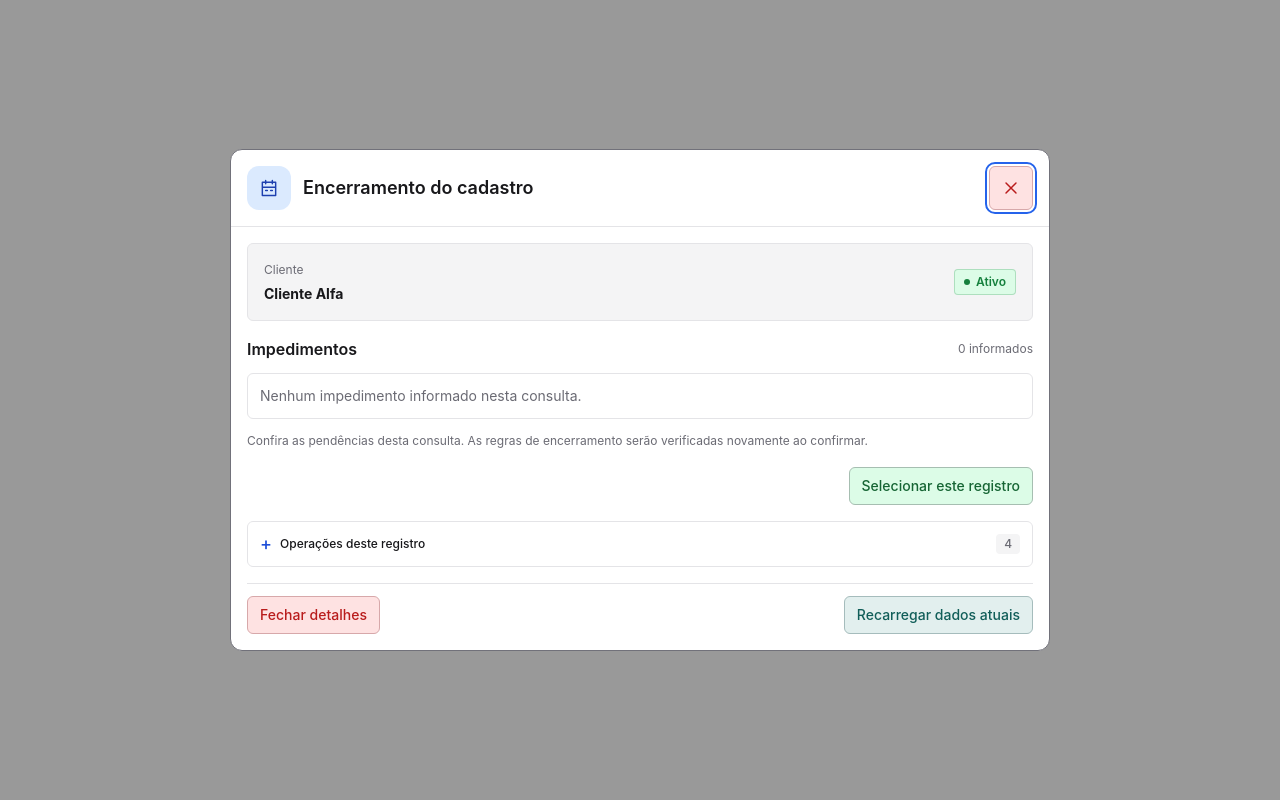
Test case: Organização do diálogo por registro › identifica a ação e o cadastro, retira a faixa vazia e separa a navegação
Expected: the heading "Encerramento do cadastro" is shown, [303, 176, 534, 200]
Click the heading "Operações deste registro 4". click: (353, 544)
box: [280, 534, 1020, 554]
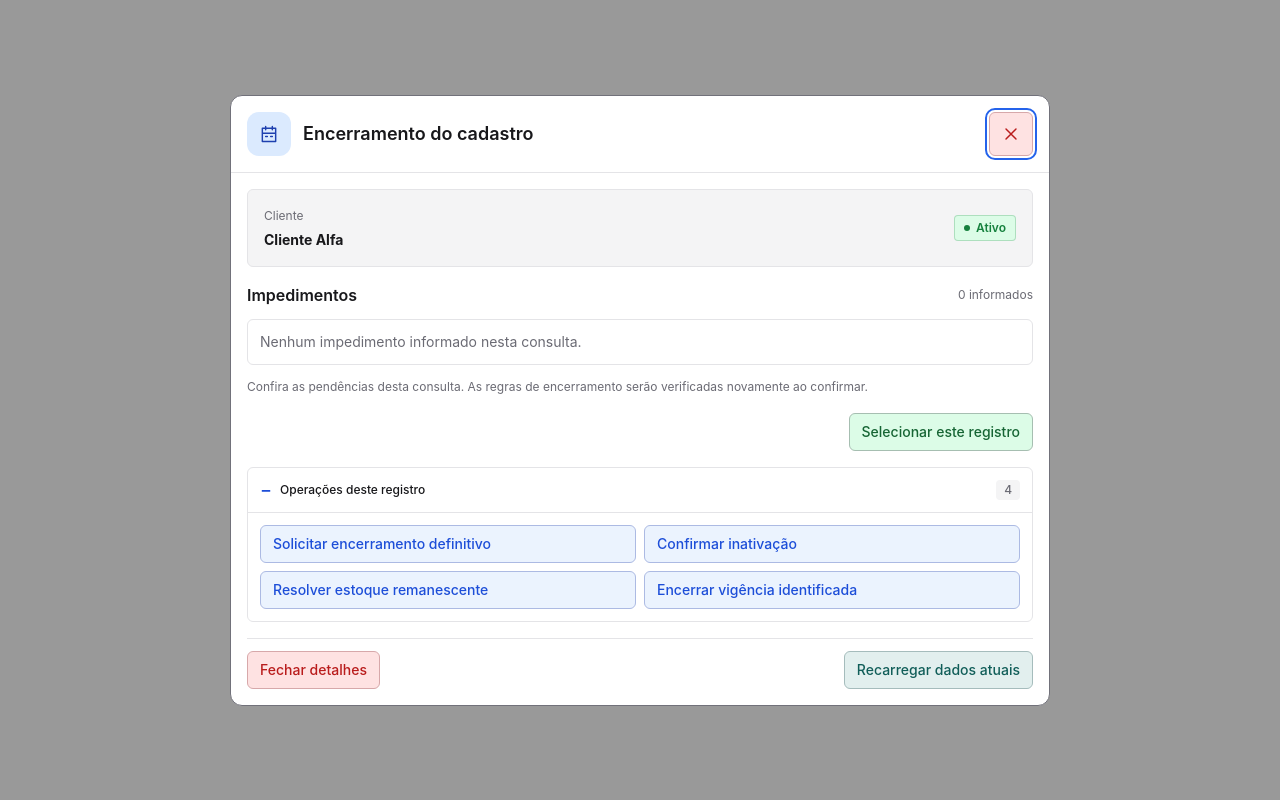
Expected: the button "Solicitar encerramento definitivo" is shown
Click the button "Solicitar encerramento definitivo". click: (448, 544)
box: [260, 524, 636, 562]
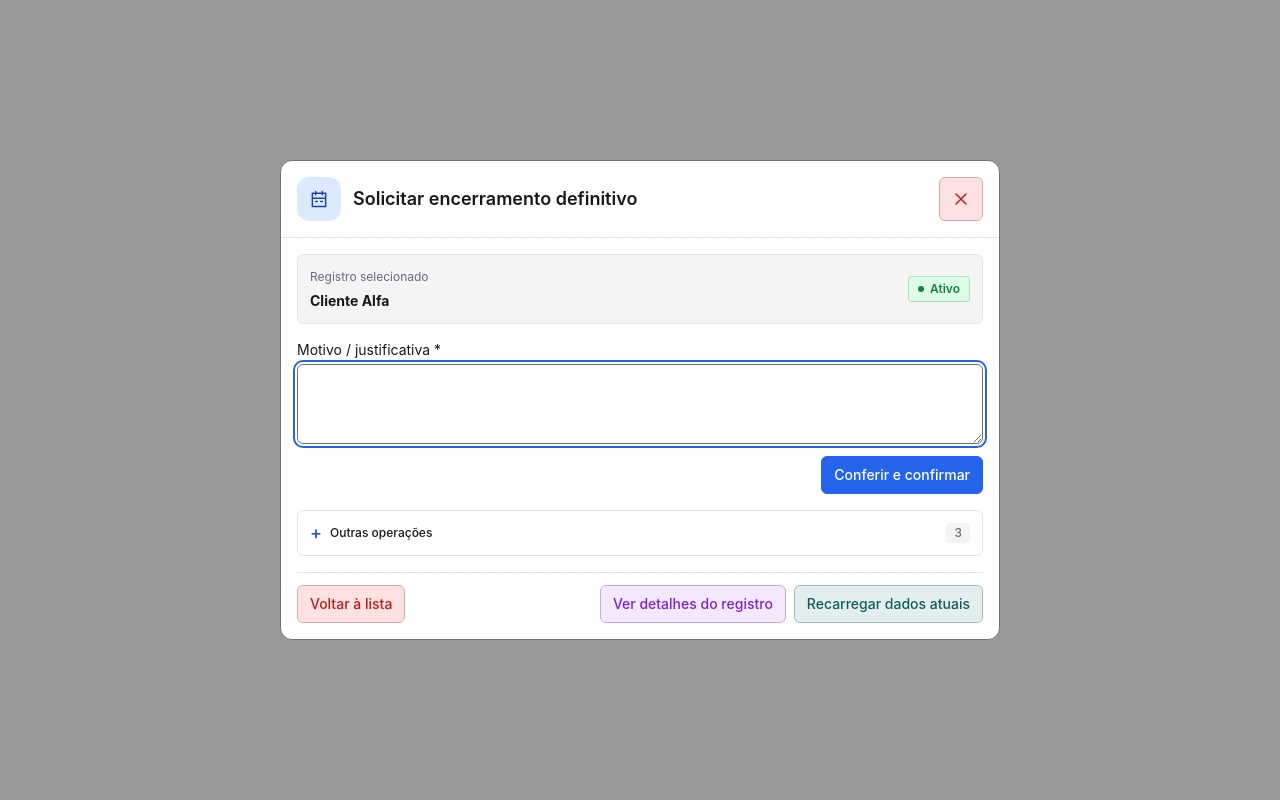
Expected: the heading "Solicitar encerramento definitivo" is shown, [353, 187, 637, 211]
Expected: the element named "Registro da operação" shows "Cliente Alfa", [310, 292, 389, 309]
Expected: the form named "Tipo *" holds "CLIENTE", [297, 340, 983, 494]
